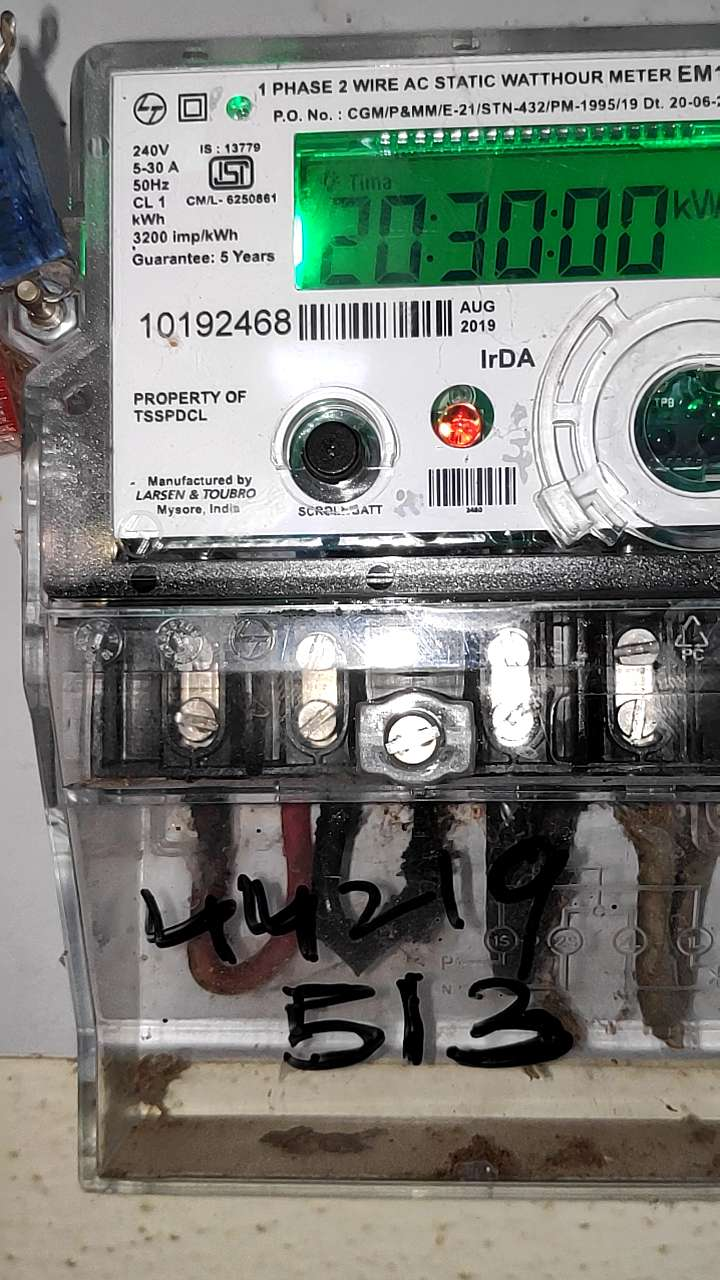meter_serial_number: (134, 305, 296, 341)
